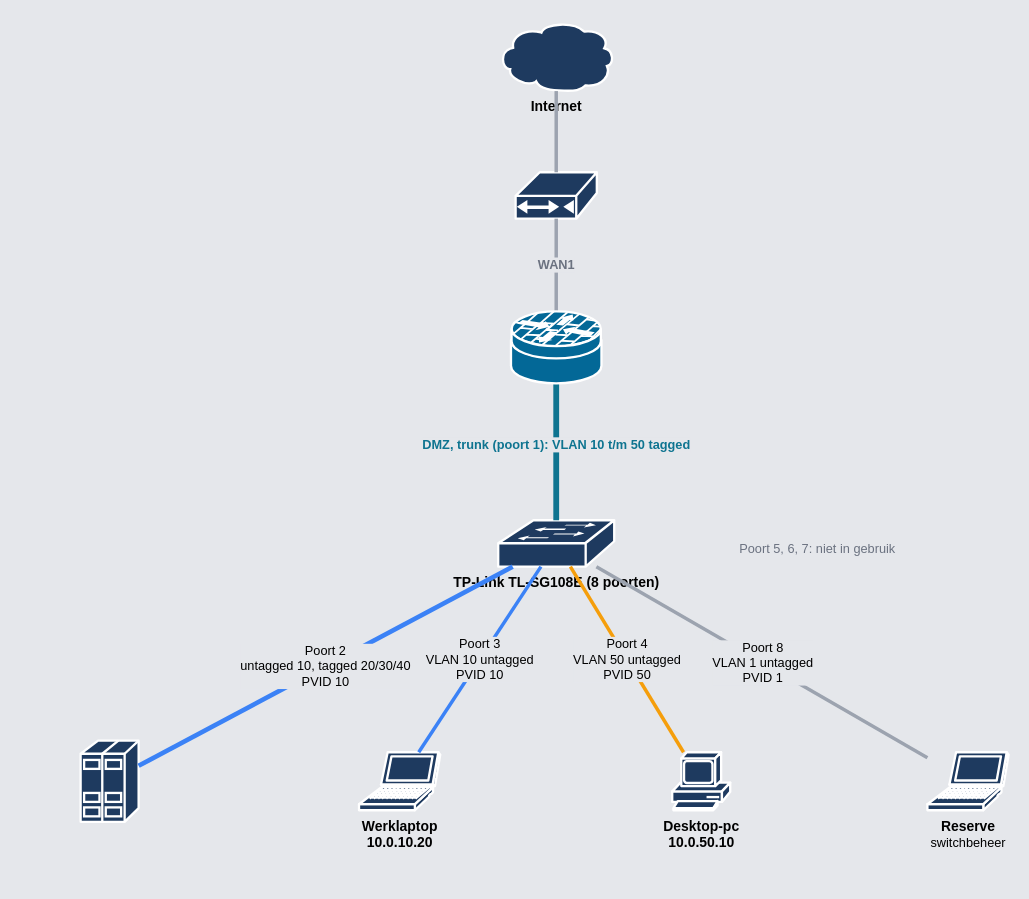
Image size: 1029x899. Some labels were removed from this diagram. Here are the shapes that lost their labels. From the top down, the centre of each, then its label:
At (x=555, y=195): "Modem".
At (x=109, y=780): "Proxmox-server 10.0.10.10 VMs: AD, Linux, Win 11, Zabbix".
